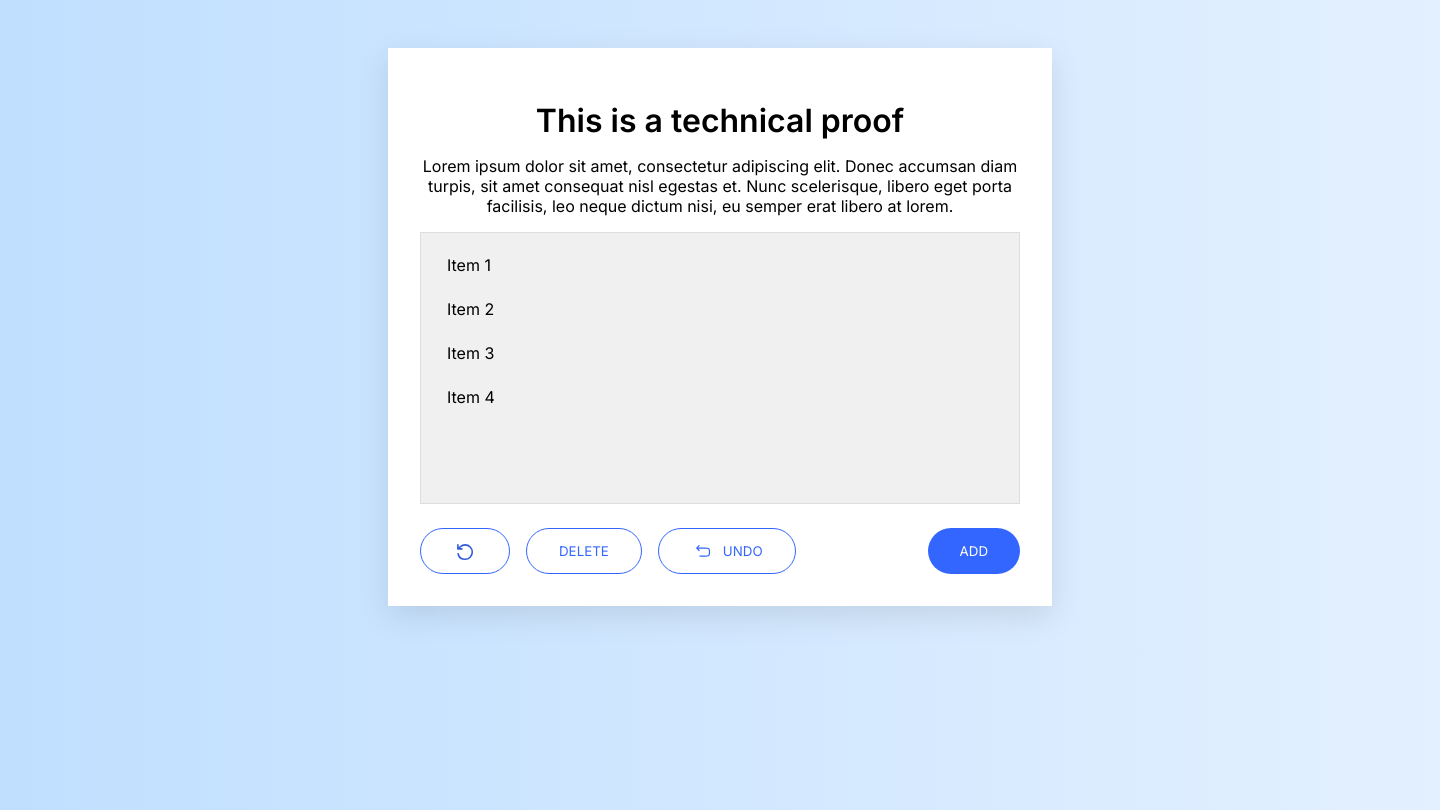
Test: Home component › shows initial items and adds a new one through the modal
Expected: the option "Item 1" is shown, [447,255,491,275]
Expected: the option "Item 4" is shown, [447,387,495,407]
Click the button "ADD" at (974,551), box [928,528,1020,574]
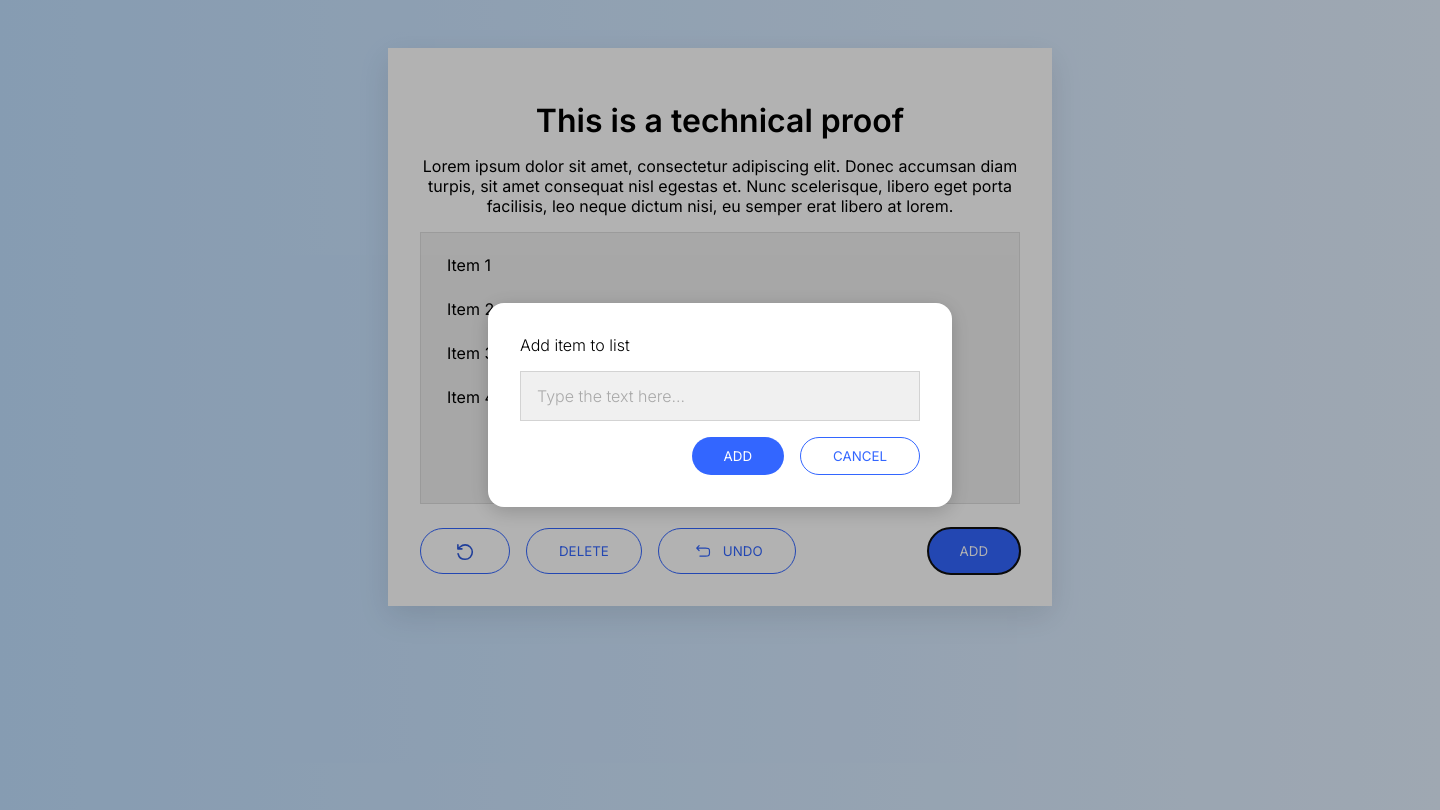
Type "New item" into the field with placeholder "Type the text here..." at (720,396), box [520,371,920,421]
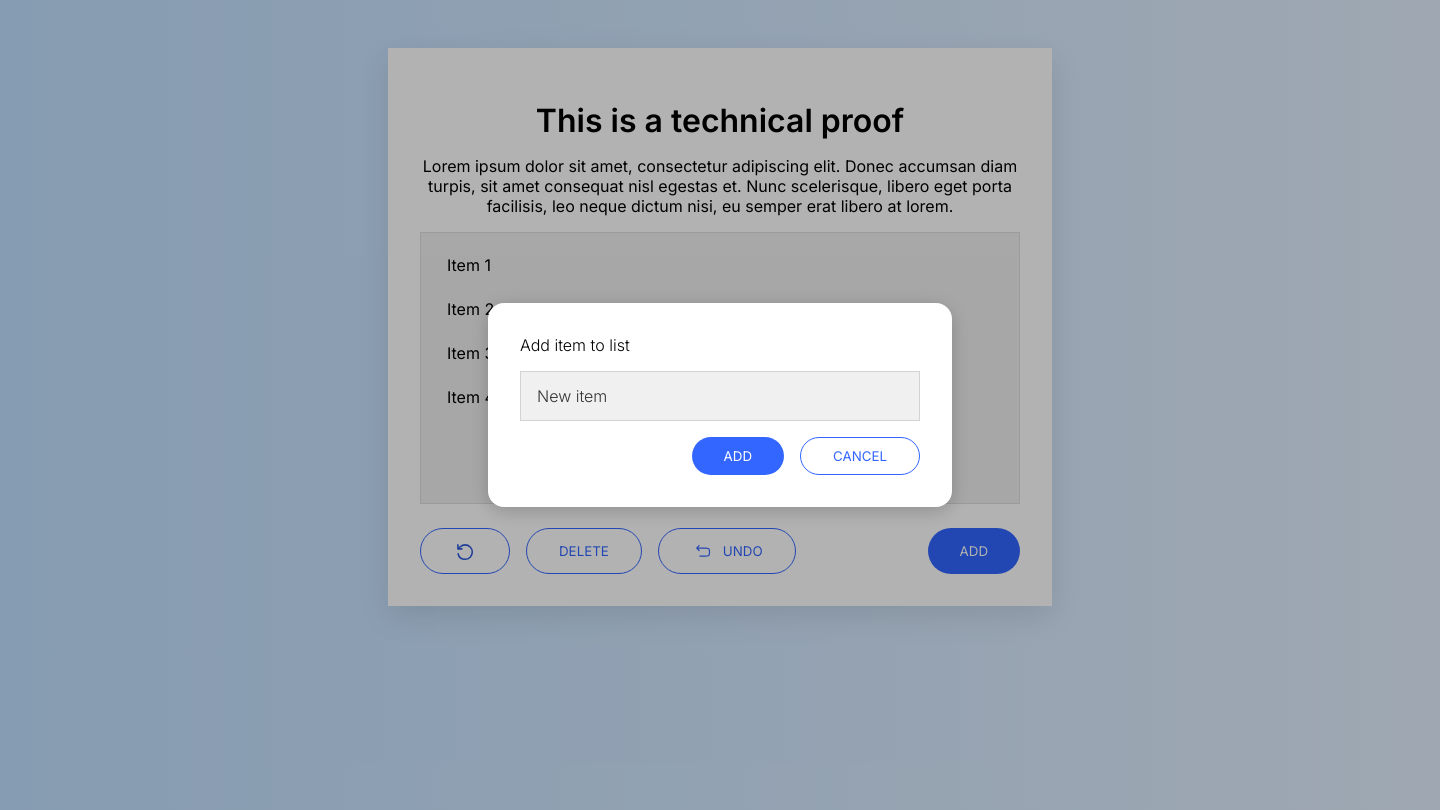
Click the button "ADD" at (738,456), box [692,437,784,475]
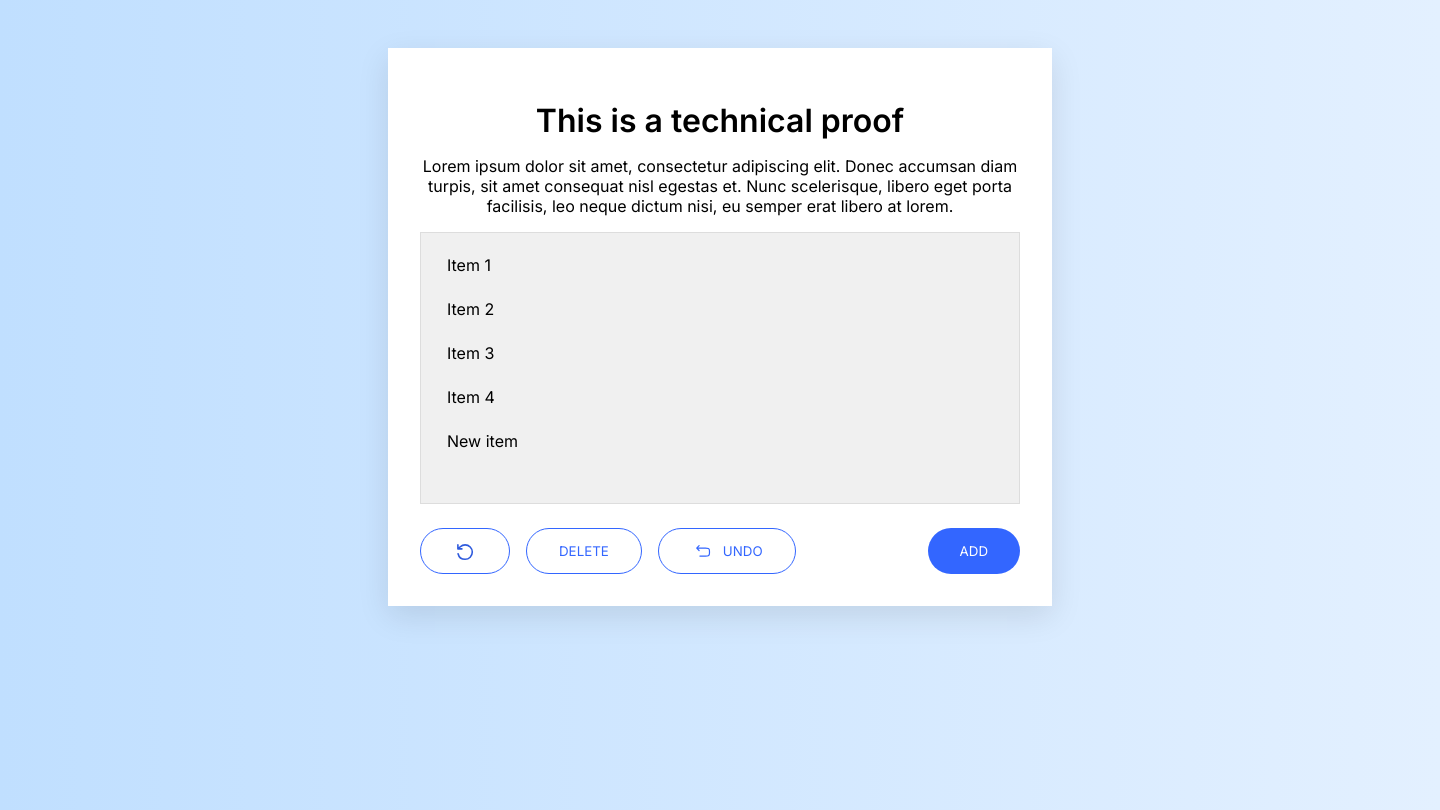
Expected: the option "New item" is shown, [447,431,518,451]
